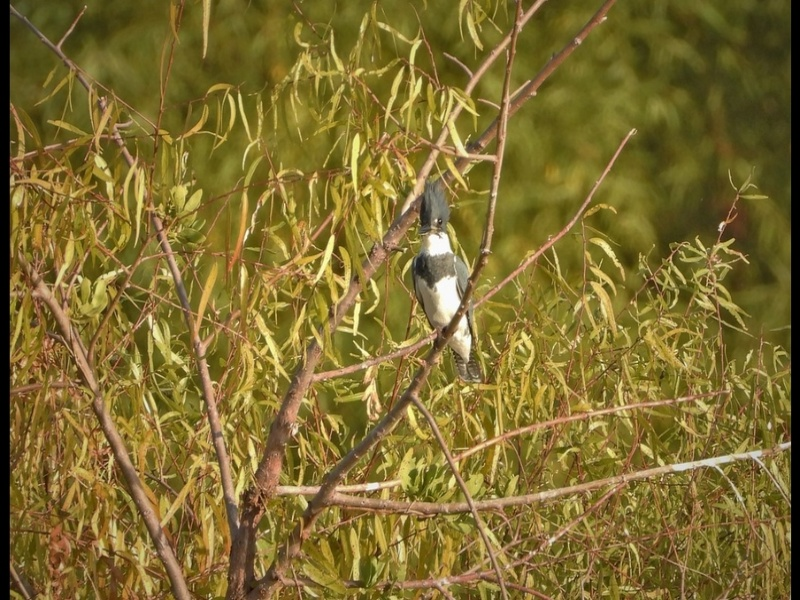kingfisher: (411, 184, 485, 382)
